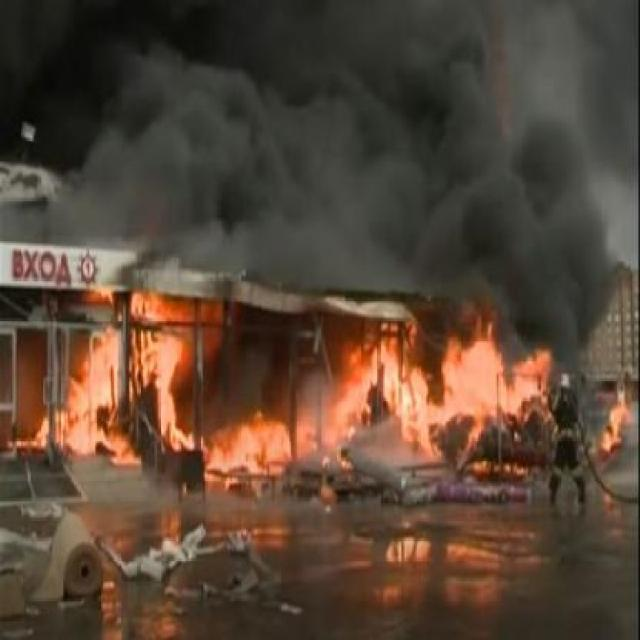Fire: (438, 334, 547, 418), (126, 298, 188, 444), (204, 404, 293, 486), (342, 332, 411, 416), (88, 306, 124, 432), (294, 411, 346, 467), (64, 368, 88, 458), (604, 392, 632, 461), (408, 375, 434, 448), (36, 414, 52, 450), (5, 437, 32, 454)
